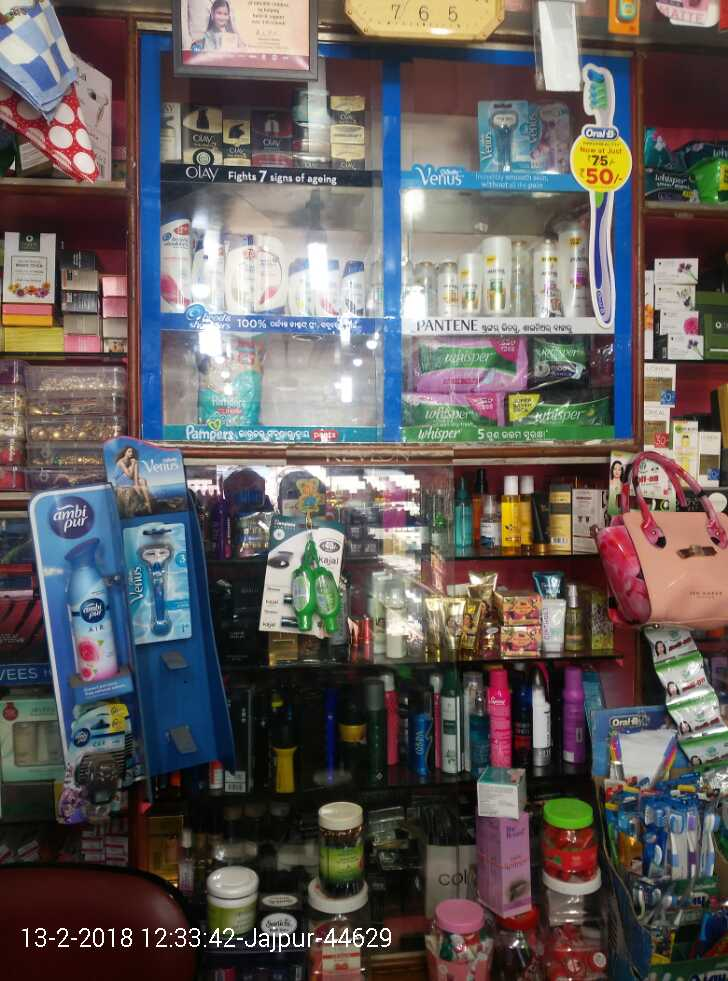ambipureVesus: (43, 477, 117, 698), (61, 705, 133, 827)
venus: (130, 524, 185, 645), (480, 101, 529, 173), (529, 102, 571, 173)
